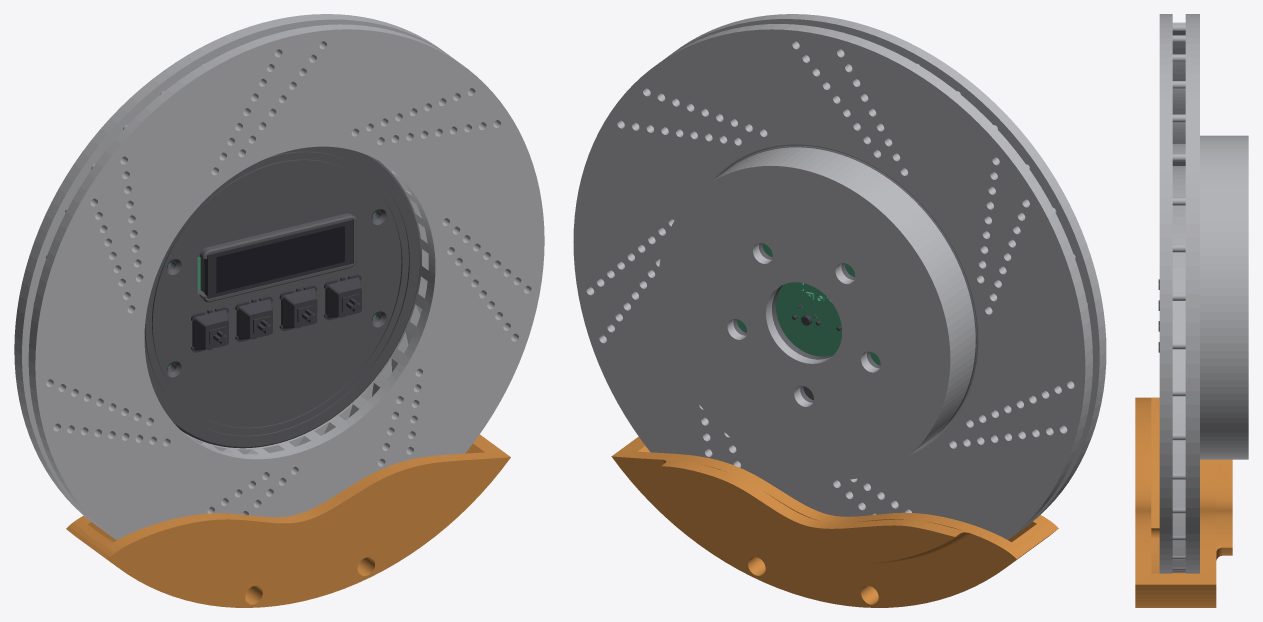
File: rotor_clock_assembly.glb
3 views of the same model, side by side, from view 1: azimuth 30°, elevation 25°; view 2: azimuth 150°, elevation 25°; view 3: azimuth 270°, elevation 25° (orthographic). The views are drawn at different scales.
Parts seen in each view (by area): view 1: rotor, cover, cal, sw, glass, tft; view 2: rotor, cal, pcb, carrier, cover; view 3: rotor, cal.
Boxes of the visible parts, left/top/right/bottom form: rotor: left=14, top=14, right=544, bottom=540; cover: left=144, top=146, right=420, bottom=448; cal: left=66, top=434, right=510, bottom=607; sw: left=191, top=274, right=361, bottom=352; glass: left=216, top=226, right=344, bottom=293; tft: left=204, top=220, right=353, bottom=298; rotor: left=573, top=14, right=1106, bottom=539; cal: left=611, top=436, right=1058, bottom=607; pcb: left=736, top=243, right=880, bottom=365; carrier: left=733, top=243, right=880, bottom=402; cover: left=740, top=146, right=976, bottom=432; rotor: left=1159, top=14, right=1248, bottom=573; cal: left=1135, top=397, right=1232, bottom=607.
Size of the model in its own units: 219 by 228 by 43.75.
